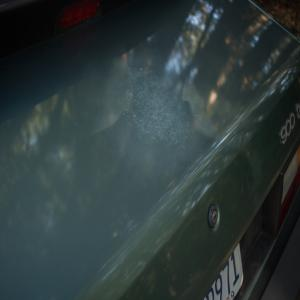Vehicle-registration-plate: (204, 242, 246, 300)
